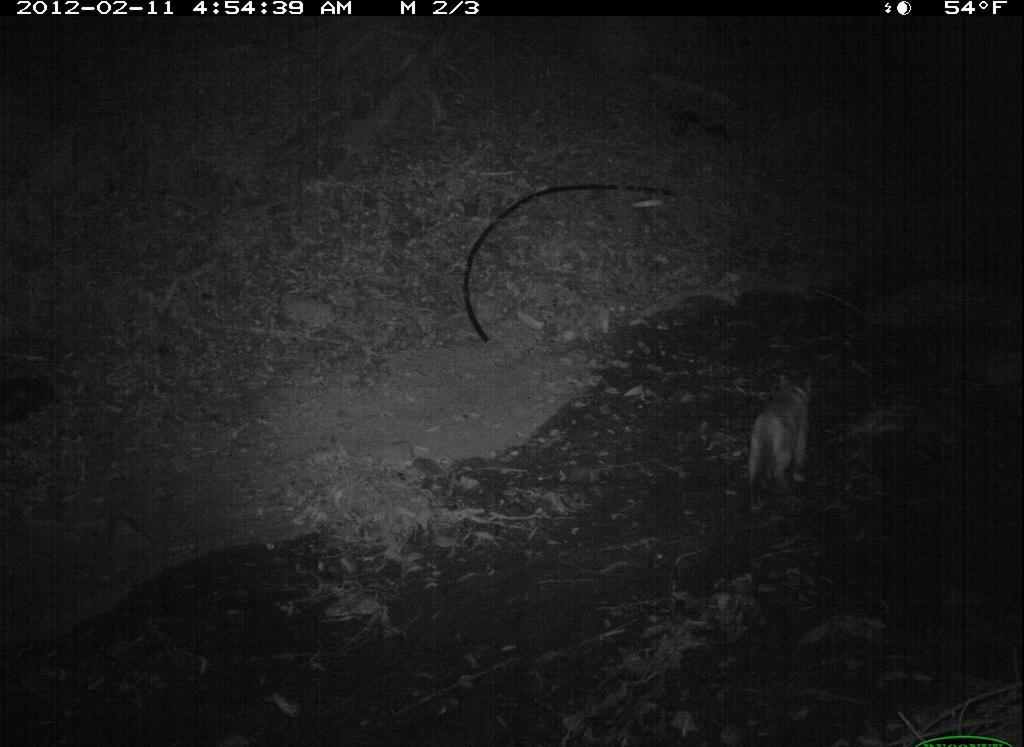cat: (730, 350, 849, 505)
